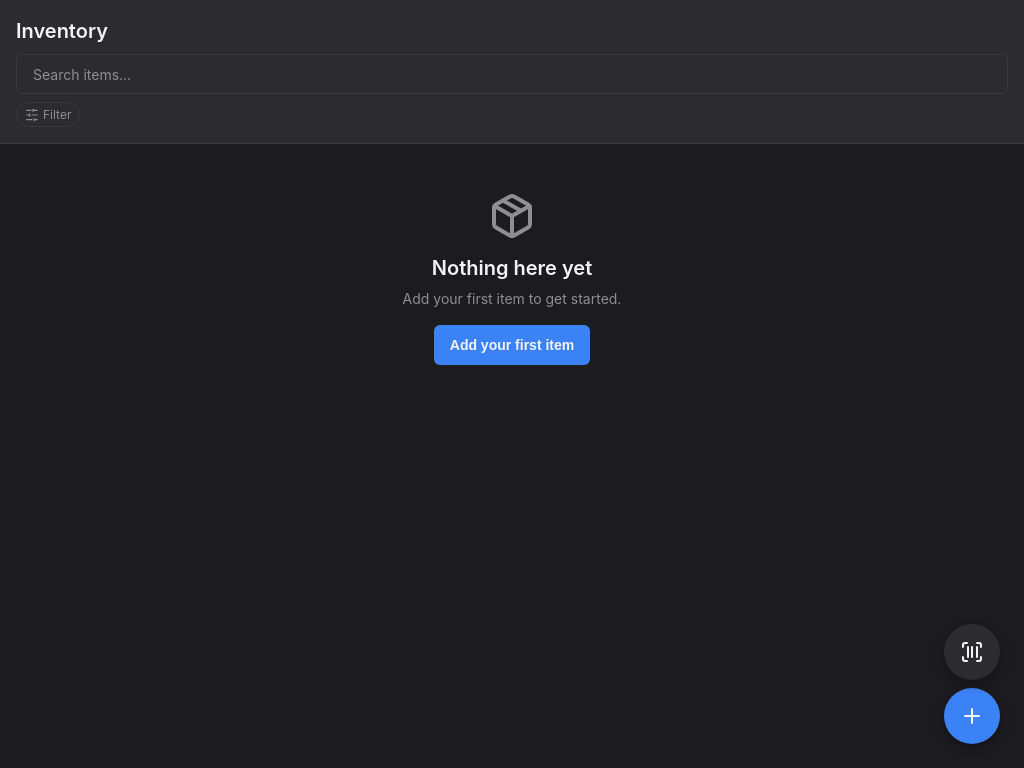
Test 3: empty state with CTA — clicking "Add your first item" opens the drawer
The image size is (1024, 768).
Expected: the heading "Nothing here yet" is shown, [432,256,592,280]
Click the button "Add your first item": {"x": 512, "y": 345} [434,325,590,365]
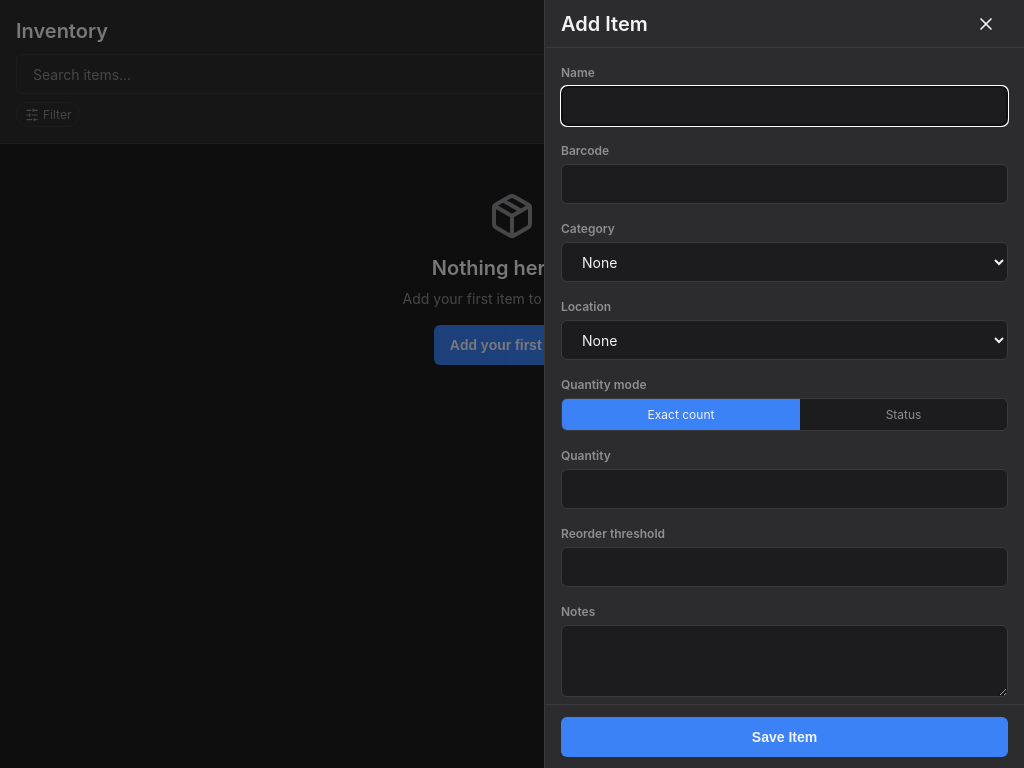
Expected: the dialog is shown, [544,0,1023,767]
